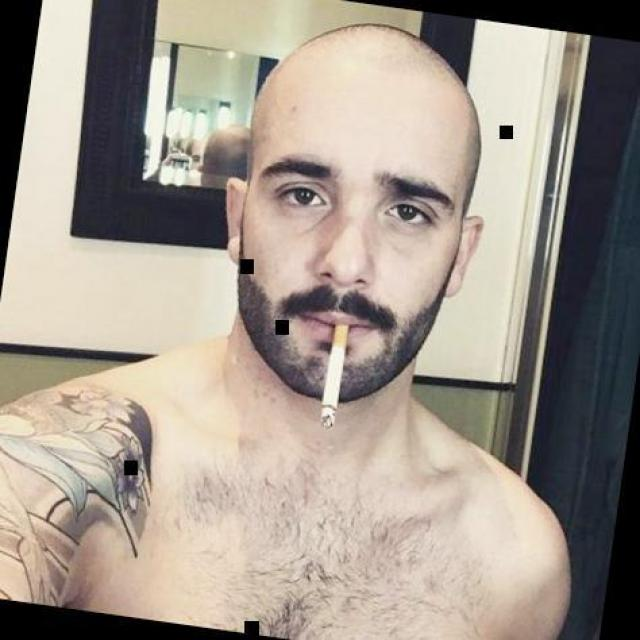smoke: (307, 308, 363, 441)
